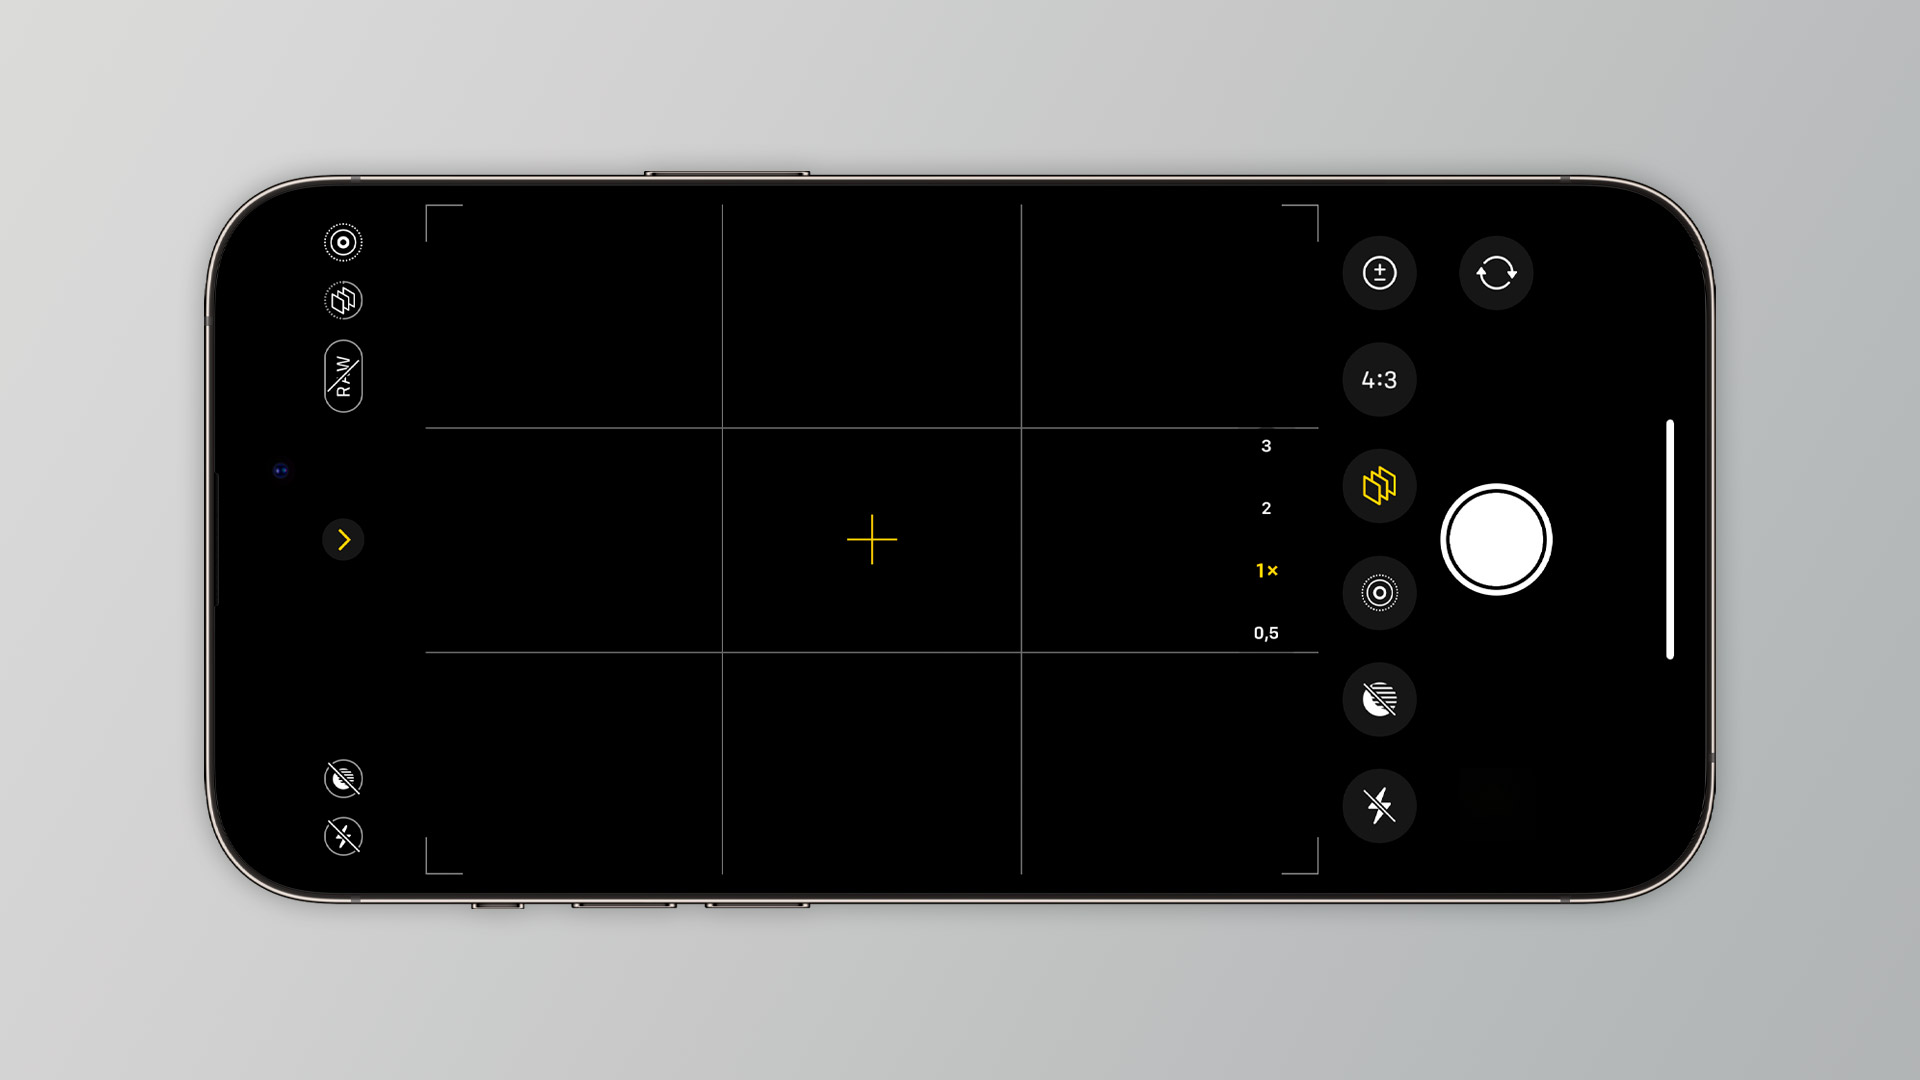phone: (173, 150, 1745, 944)
